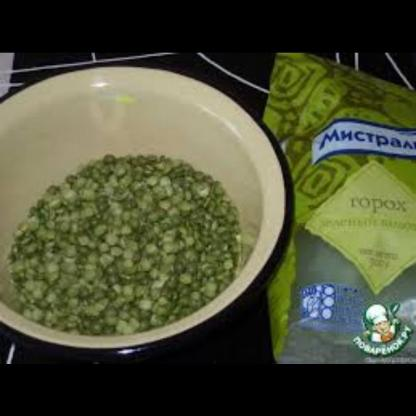peas: (0, 147, 245, 328)
